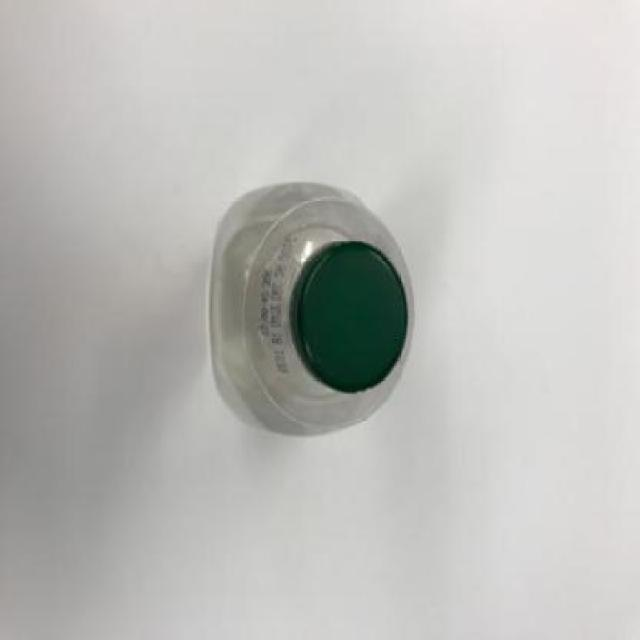PLASTIC: (209, 182, 416, 432), (292, 238, 410, 396)
